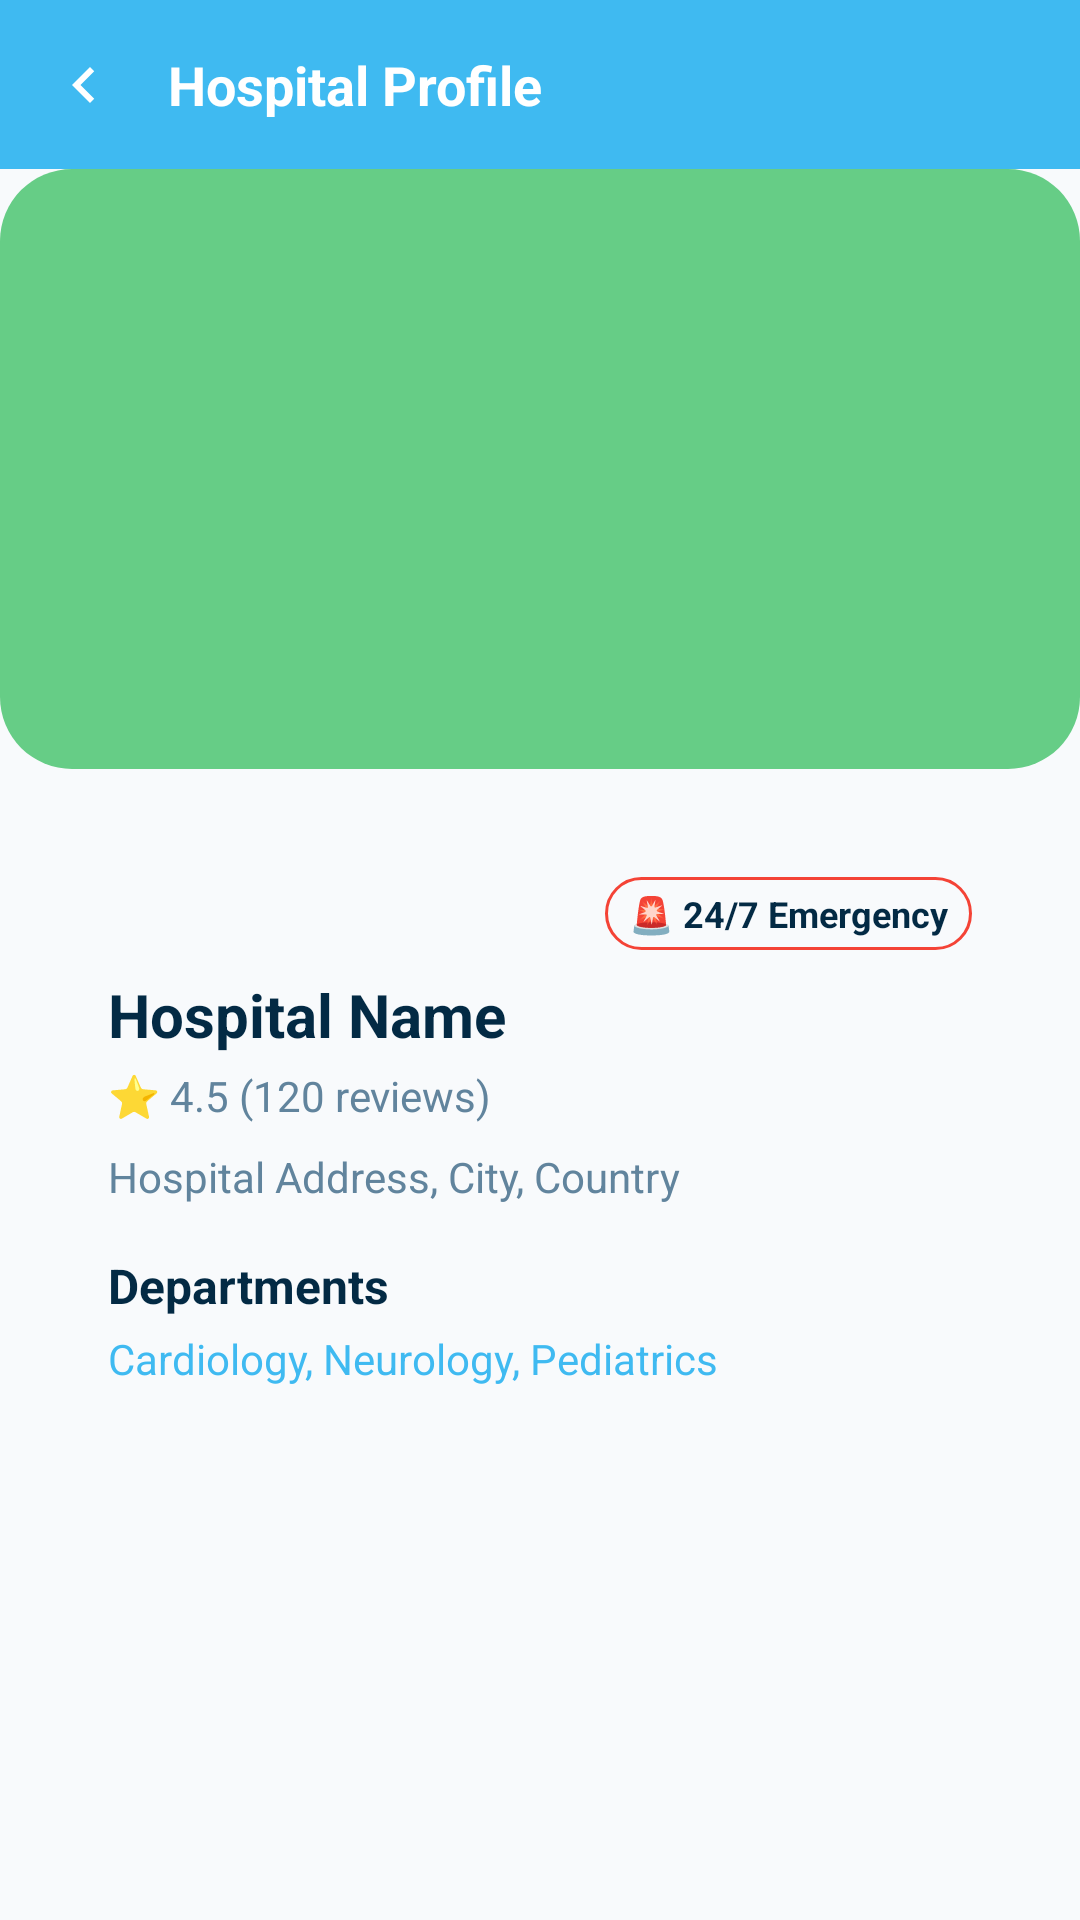

Icon click points for this 1080px x 1920px phone screenshot, format point (x, y):
chevron left: point (83, 85)
